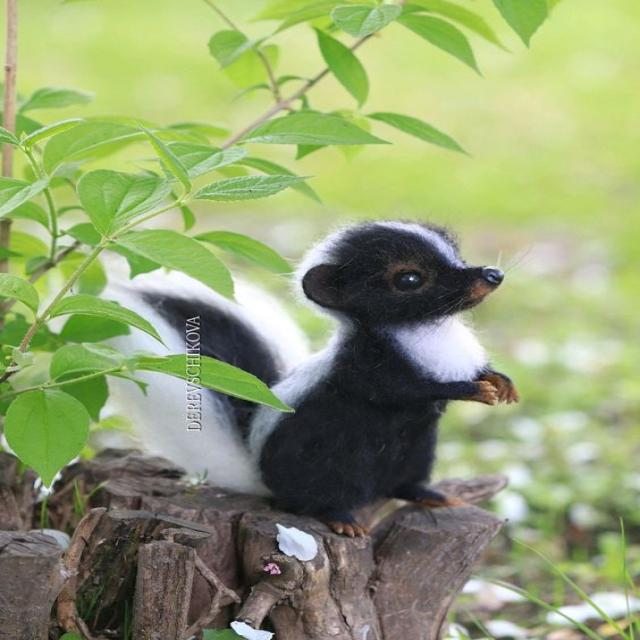Skunk: (79, 180, 577, 558)
